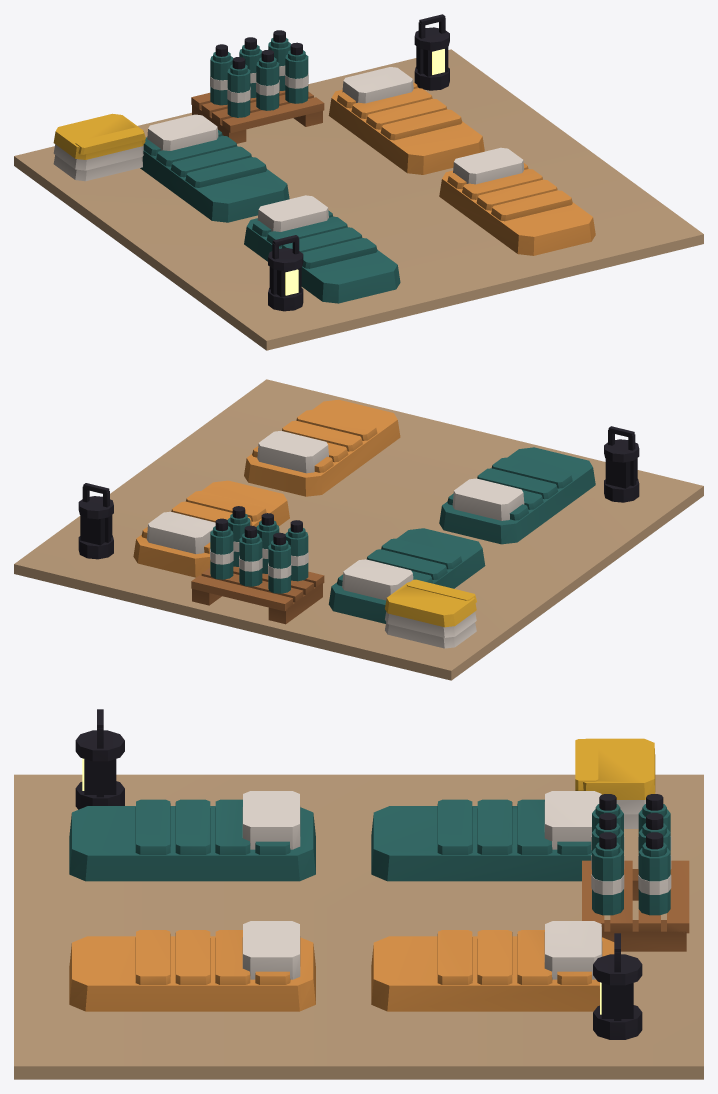
The model's file is kit.shelter-camp.lod1.glb.
The picture shows the model from 3 angles, top to bottom: view 1: azimuth 30°, elevation 25°; view 2: azimuth 150°, elevation 25°; view 3: azimuth 270°, elevation 25°; orthographic projection. The views are drawn at different scales.
Visible parts, largest first — view 1: body, body_emi_windowGlow; view 2: body; view 3: body.
Part boxes in pixels (bbox=[...]): body: bbox=[14, 14, 703, 350]; body_emi_windowGlow: bbox=[285, 49, 444, 295]; body: bbox=[14, 379, 703, 680]; body: bbox=[14, 709, 703, 1079].
Bounding box in the file's own units: 5.6 × 1.05 × 5.6.
